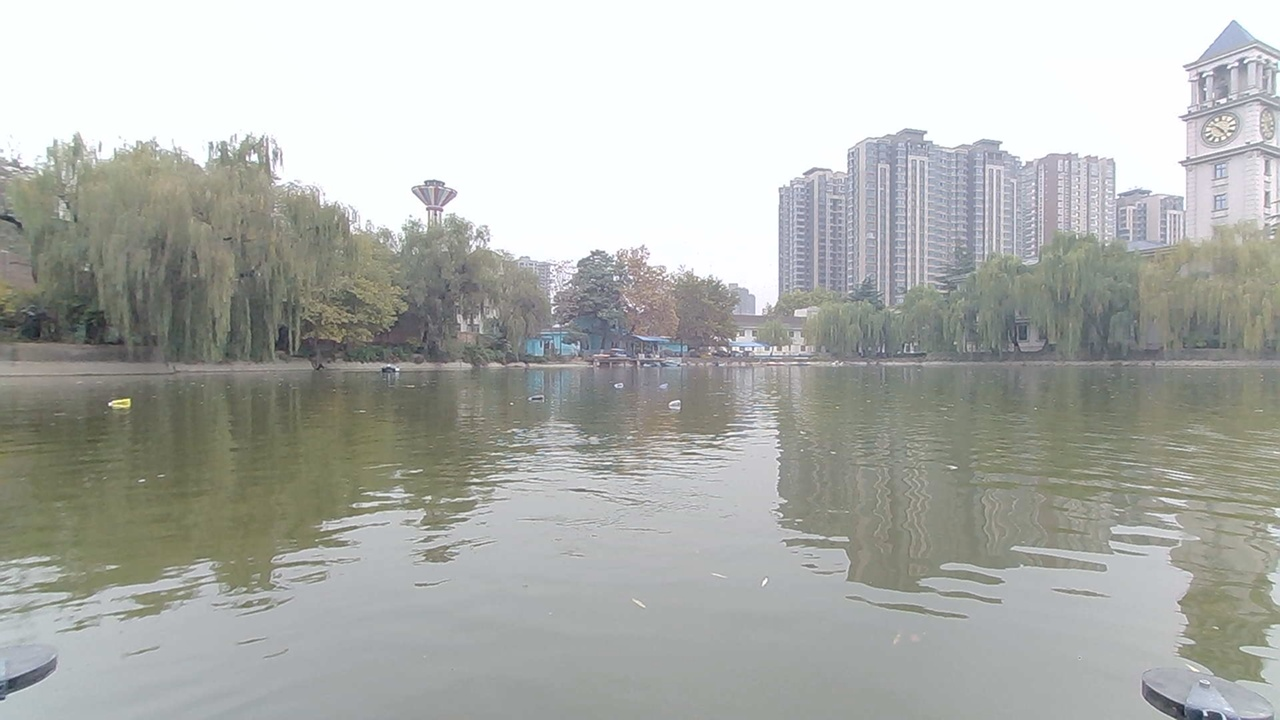bottle: (103, 392, 145, 416), (527, 383, 557, 405), (658, 389, 688, 410), (657, 370, 690, 387), (606, 373, 628, 392)
